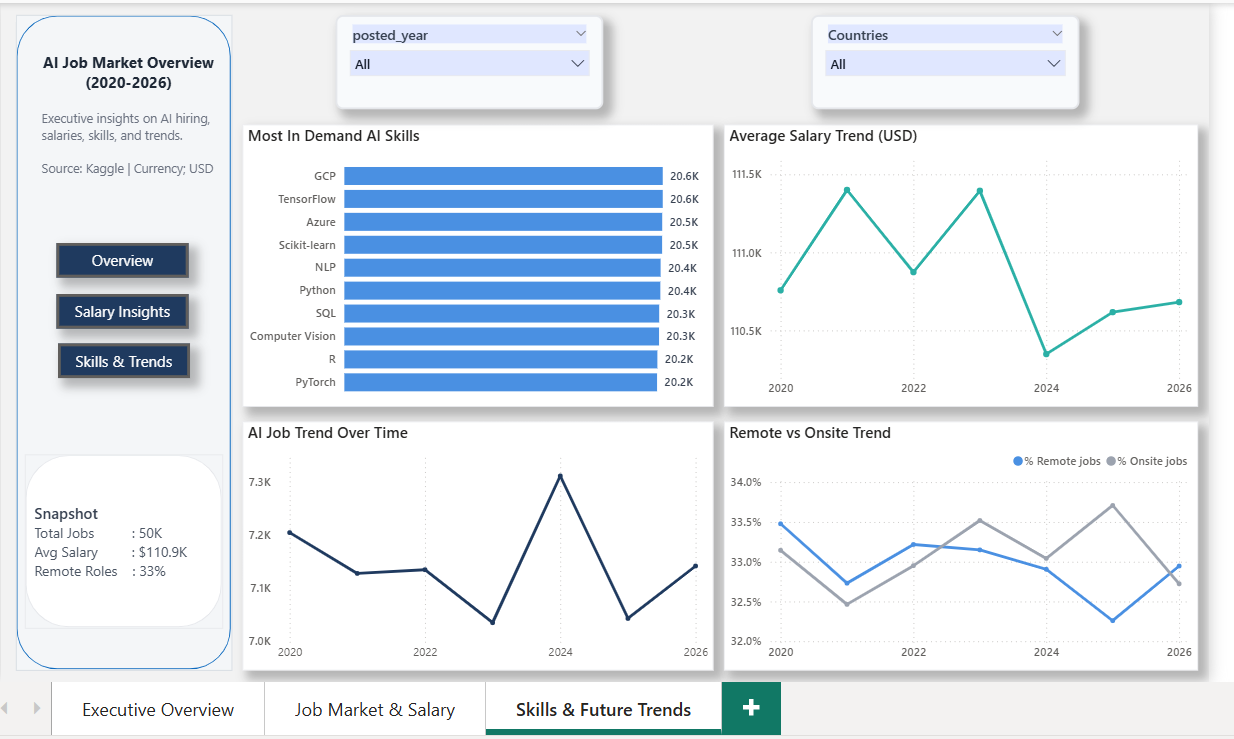

The page's visual inventory and layout, read from the dashboard file:
{"tool":"powerbi","page":{"name":"Skills & Future Trends","canvas":[1280,720],"ordinal":2},"visuals":[{"type":"barChart","title":"Most In Demand AI Skills","fields":{"Category":["skills_demand.skill"],"Y":["CountNonNull(skills_demand.skill_category)"]},"box":[256.1,128.8,499.5,299],"z":0},{"type":"shape","box":[25.4,478.8,210,184.5],"z":0,"group":"g2"},{"type":"lineChart","title":"AI Job Trend Over Time","fields":{"Category":["ai_jobs.posted_year"],"Y":["ai_jobs.Total_jobs"]},"box":[256.1,443.8,499.5,264],"z":1000},{"type":"textbox","box":[30,525.3,194.1,100.2],"z":1000,"group":"g2"},{"type":"lineChart","title":"Average Salary Trend  (USD)","fields":{"Y":["ai_jobs.Avrg salary"],"Category":["ai_jobs.posted_year"]},"box":[766.7,128.8,502.6,299],"z":2000},{"type":"lineChart","title":"Remote vs Onsite Trend","fields":{"Y":["ai_jobs.% Remote jobs","ai_jobs.% Onsite jobs"],"Category":["ai_jobs.posted_year"]},"box":[766.7,443.8,502.6,264],"z":3000},{"type":"shape","box":[15.9,12.7,229,695.1],"z":4000,"group":"g4"},{"type":"slicer","fields":{"Values":["ai_jobs.posted_year"]},"box":[354.7,12.7,284,100],"z":4000},{"type":"slicer","fields":{"Values":["ai_jobs.country"]},"box":[858.9,12.7,284.7,100],"z":5000},{"type":"textbox","box":[26.8,45.5,205.7,160],"z":5000,"group":"g4"},{"type":"group","id":"g1","title":"Group 1","box":[15.9,12.7,229,695.1],"z":6000},{"type":"group","id":"g2","title":"Group 4","box":[25.4,478.8,210,184.5],"z":6006,"group":"g3"},{"type":"actionButton","title":"Salary Insights","box":[58.9,254.5,140,36.6],"z":7000},{"type":"actionButton","title":"Salary Insights","box":[58.9,308.6,140,36.6],"z":8000},{"type":"actionButton","title":"Salary Insights","box":[60.4,361.1,140,36.6],"z":9000},{"type":"group","id":"g3","title":"Group 2","box":[25.4,478.8,210,184.5],"z":10000},{"type":"group","id":"g4","title":"Group 3","box":[15.9,12.7,229,695.1],"z":14004,"group":"g1"}]}

Visuals, with their boxes on the page's 1280x720 design canvas (x1, y1, x2, y2). These are canvas units, not pixel positions in the 1234x739 screenshot, which may show the page scaled, cropped or inside an application window:
"Most In Demand AI Skills" barChart: region(256, 129, 756, 428)
shape: region(25, 479, 235, 663)
"AI Job Trend Over Time" lineChart: region(256, 444, 756, 708)
textbox: region(30, 525, 224, 626)
"Average Salary Trend  (USD)" lineChart: region(767, 129, 1269, 428)
"Remote vs Onsite Trend" lineChart: region(767, 444, 1269, 708)
shape: region(16, 13, 245, 708)
slicer - ai_jobs.posted_year: region(355, 13, 639, 113)
slicer - ai_jobs.country: region(859, 13, 1144, 113)
textbox: region(27, 46, 232, 206)
"Group 1" group: region(16, 13, 245, 708)
"Group 4" group: region(25, 479, 235, 663)
"Salary Insights" actionButton: region(59, 254, 199, 291)
"Salary Insights" actionButton: region(59, 309, 199, 345)
"Salary Insights" actionButton: region(60, 361, 200, 398)
"Group 2" group: region(25, 479, 235, 663)
"Group 3" group: region(16, 13, 245, 708)
